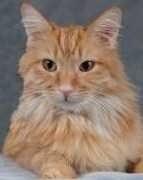Cat: (9, 3, 138, 173)
